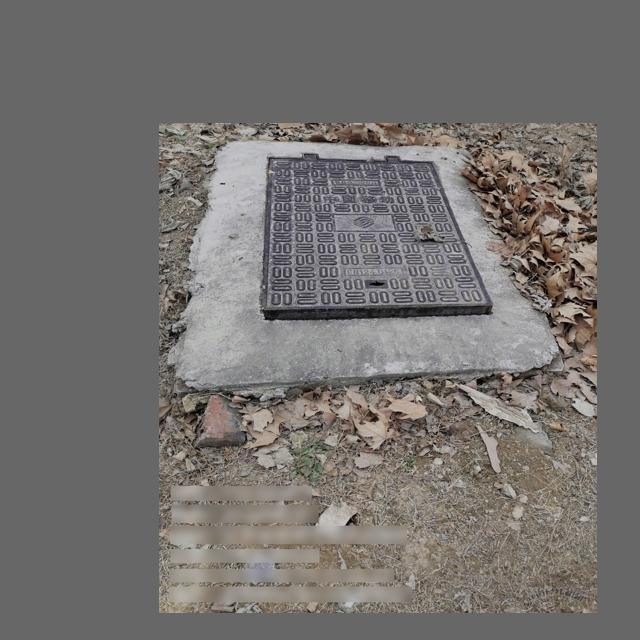uncovered: (258, 152, 495, 322)
